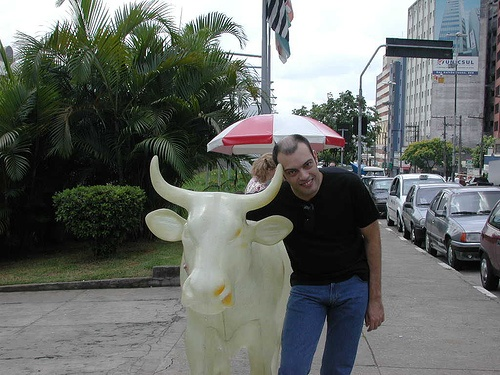head: (272, 134, 321, 197)
person: (250, 138, 384, 375), (243, 151, 275, 192)
